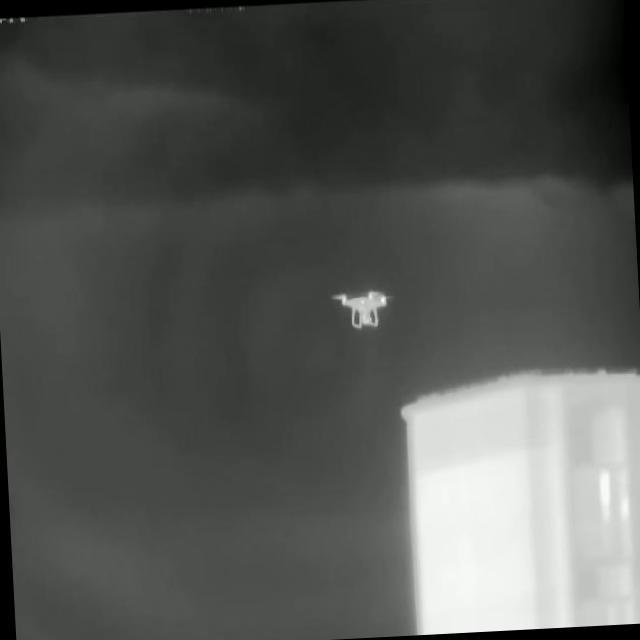DRONE: (328, 287, 399, 329)
